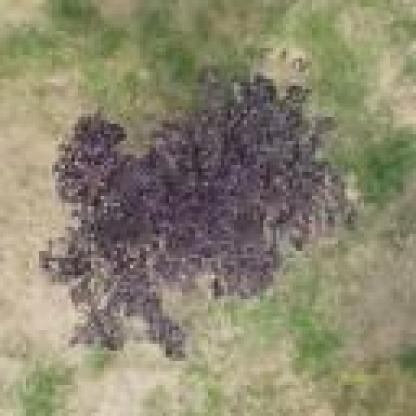Deciduous Tree: (32, 62, 360, 361)
